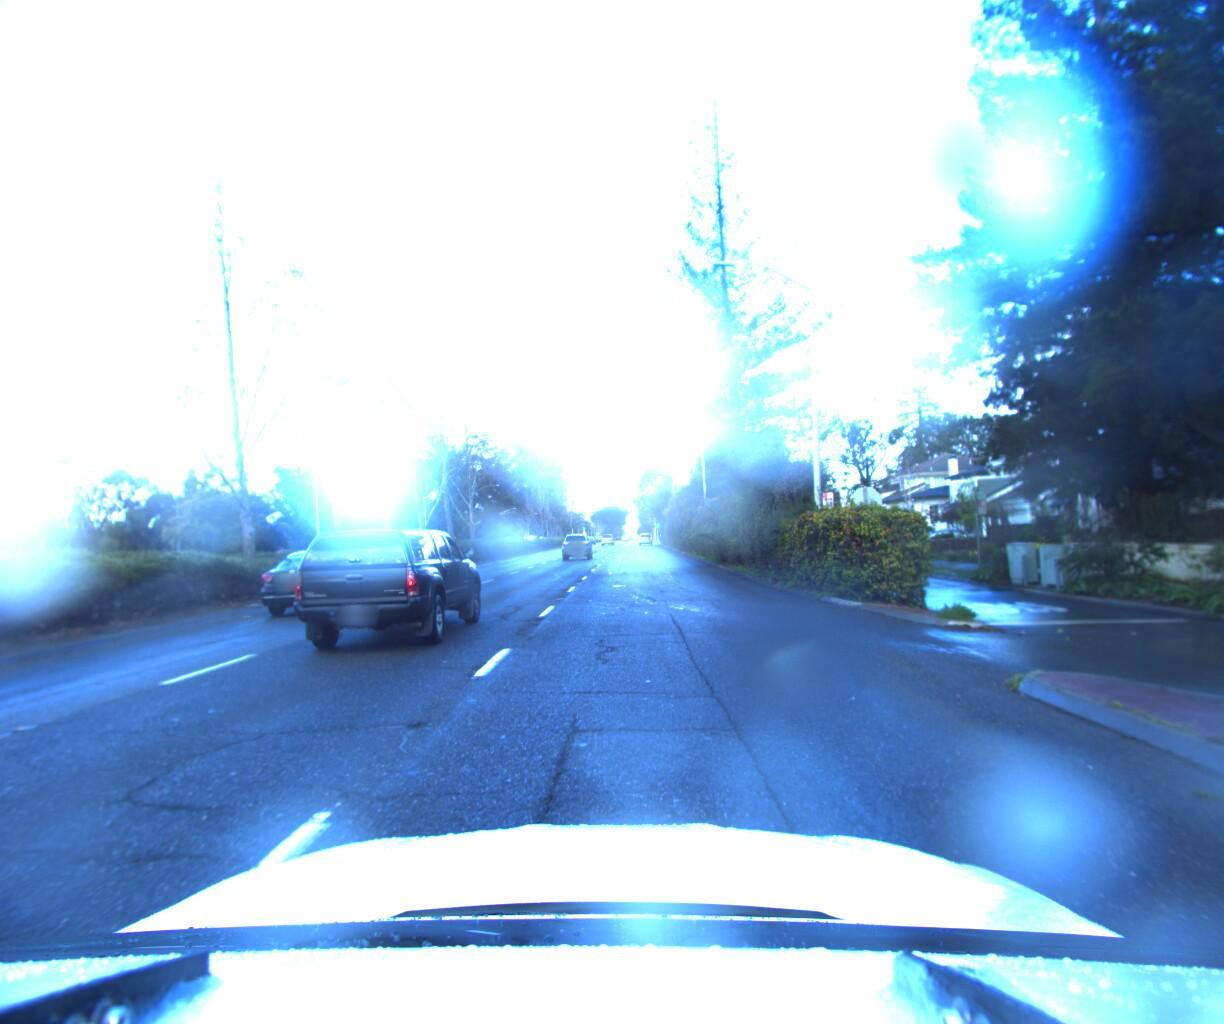car: (280, 523, 493, 662), (239, 544, 382, 616), (558, 528, 594, 557)
